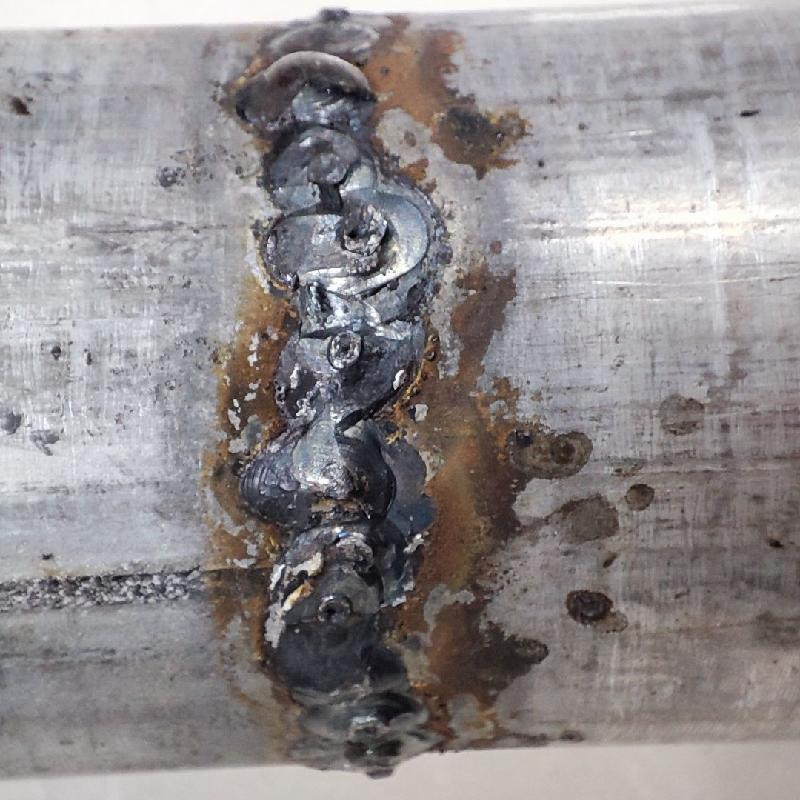Surface_pores: (332, 210, 391, 257), (304, 593, 356, 628), (327, 333, 360, 369)
Weld: (233, 51, 369, 130)
wrong_size: (255, 131, 441, 761)
